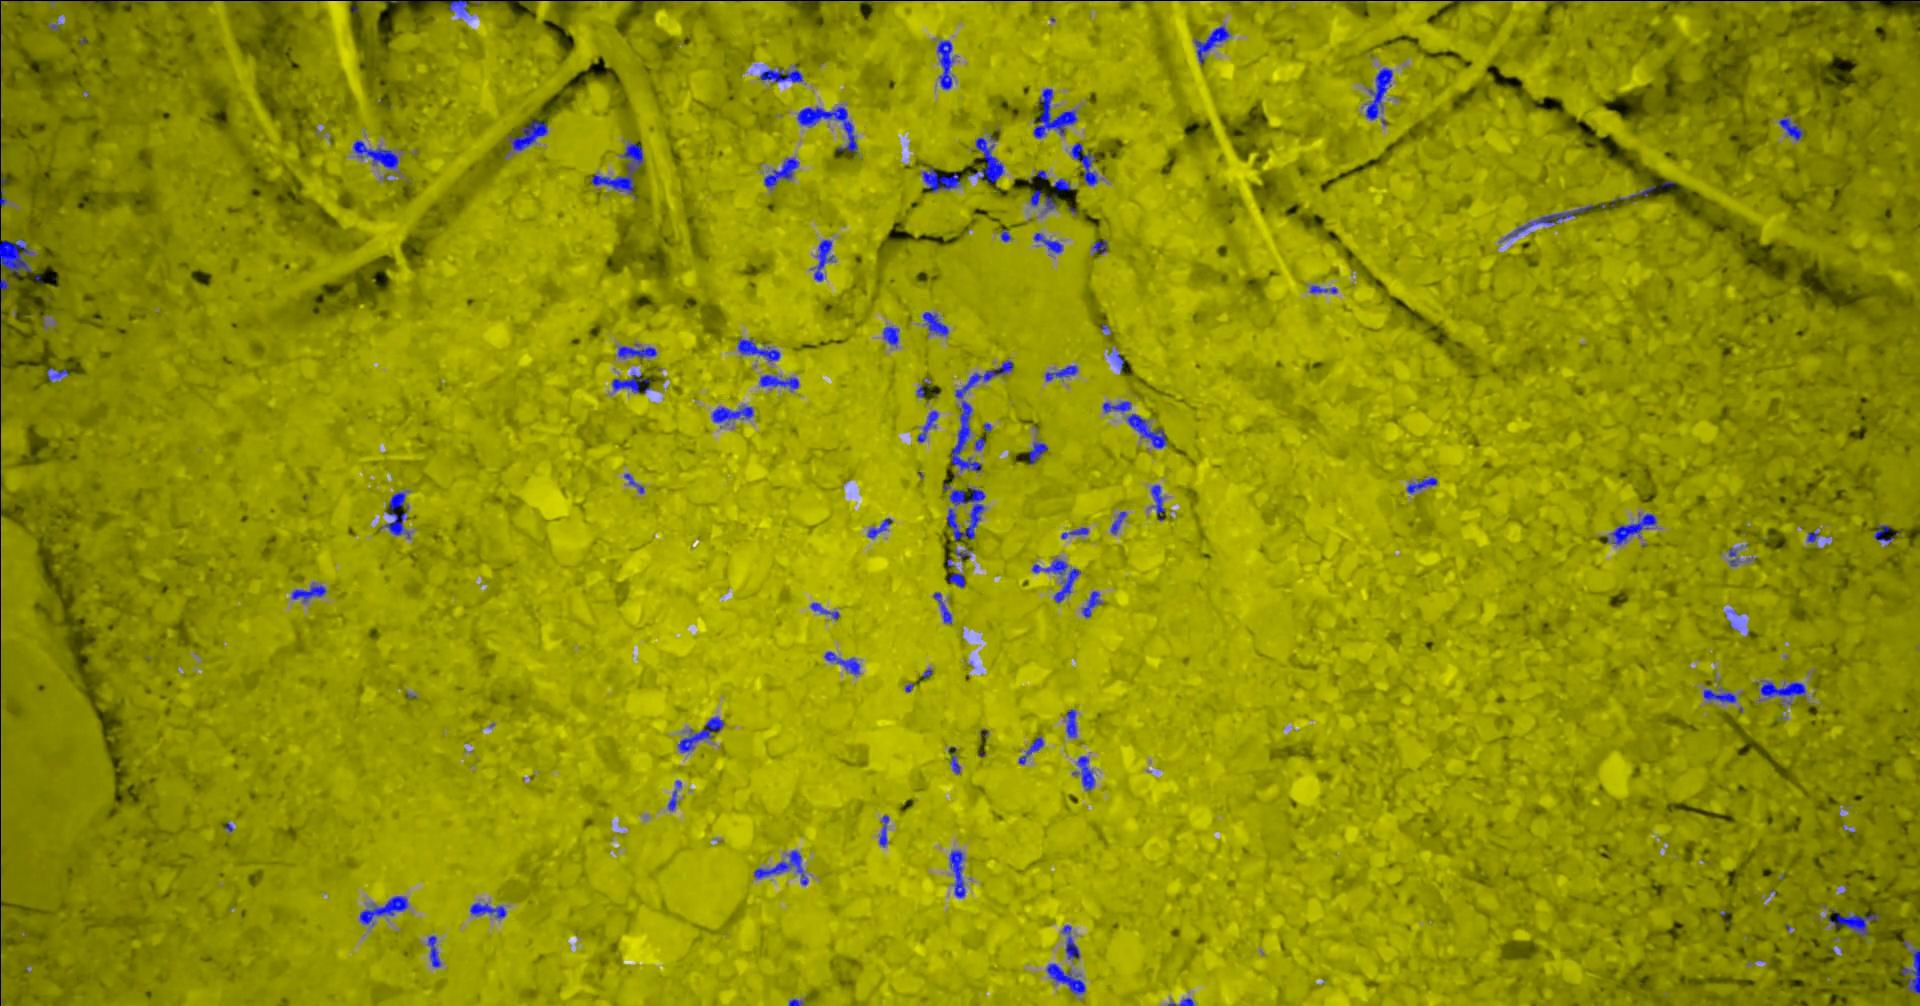ant: (1503, 205, 1592, 239), (796, 105, 857, 151), (590, 144, 643, 193), (1032, 88, 1076, 138), (1031, 558, 1079, 602), (946, 486, 984, 540), (754, 850, 808, 885), (678, 716, 724, 752), (968, 137, 1003, 182), (1364, 67, 1392, 119), (380, 492, 410, 539), (1126, 413, 1166, 448), (1610, 513, 1656, 544), (1194, 25, 1229, 64), (359, 895, 408, 923), (352, 140, 397, 169), (1827, 909, 1879, 935), (0, 238, 33, 276), (1046, 963, 1084, 995), (509, 119, 547, 150), (1070, 142, 1097, 185), (763, 158, 799, 188), (1760, 680, 1804, 704), (737, 338, 778, 361), (922, 166, 960, 191), (811, 239, 833, 281), (1900, 948, 1919, 995), (759, 64, 803, 83), (936, 39, 952, 89), (1072, 754, 1095, 790), (824, 652, 858, 674), (949, 850, 965, 897), (611, 373, 650, 392), (711, 406, 753, 424), (916, 410, 938, 442), (1018, 735, 1043, 763), (922, 311, 949, 335), (1062, 923, 1079, 959), (1778, 116, 1803, 140), (469, 902, 505, 918), (617, 343, 657, 358), (1032, 232, 1062, 253), (291, 584, 326, 601), (759, 373, 797, 389), (933, 592, 951, 622), (1081, 591, 1101, 617), (867, 517, 891, 539), (1618, 185, 1655, 199), (1150, 484, 1164, 520), (1045, 365, 1077, 380), (810, 602, 839, 619), (1406, 478, 1436, 493), (1703, 688, 1736, 702), (667, 780, 681, 810), (1029, 442, 1048, 464), (427, 935, 439, 967), (623, 473, 643, 493), (1874, 525, 1895, 544), (1110, 511, 1126, 533), (448, 0, 472, 15), (883, 326, 898, 347), (44, 367, 69, 380), (1062, 527, 1087, 539), (949, 748, 960, 774), (1102, 401, 1130, 412), (1065, 709, 1076, 737), (879, 815, 888, 847), (1051, 178, 1072, 191), (949, 572, 965, 587), (1309, 285, 1336, 293), (0, 171, 6, 206), (0, 277, 9, 301), (1044, 196, 1057, 212), (1091, 240, 1107, 253), (1029, 189, 1041, 205), (1728, 547, 1738, 567), (1167, 997, 1192, 1005)
